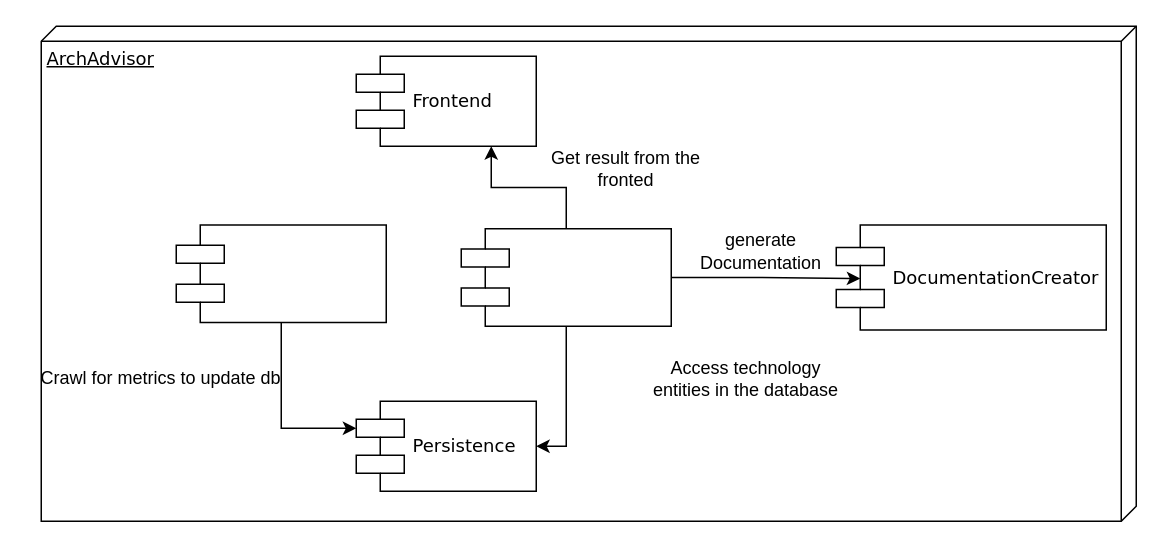
Some shapes in this 1163 by 548 pixel diagram are drawn without their labels. Here are the shapes that lost their labels. From the top down, the centre of each, then its label:
(x=280, y=273): MetricsCrawler
(x=565, y=276): AdvisorService
